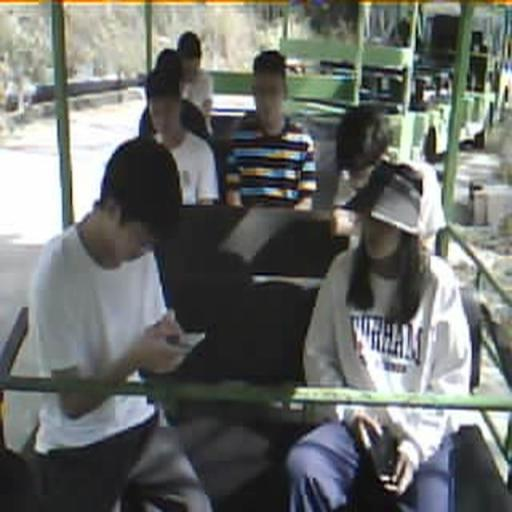persona: (18, 135, 214, 510), (285, 160, 473, 510), (329, 101, 447, 254), (222, 49, 320, 210), (138, 48, 220, 206), (132, 48, 210, 137), (176, 30, 218, 126)
